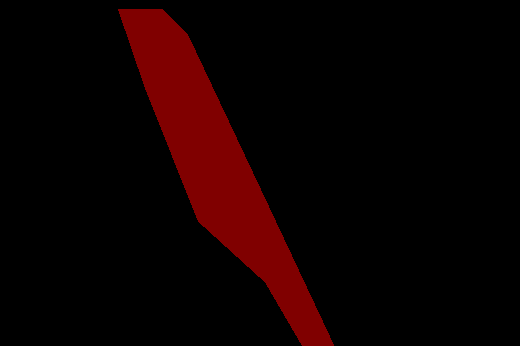fire: (118, 9, 337, 346)
